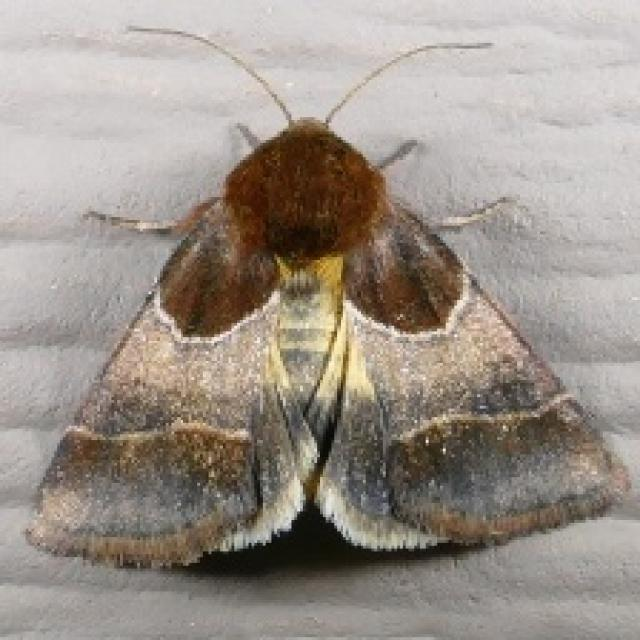butterfly: (23, 20, 631, 571)
